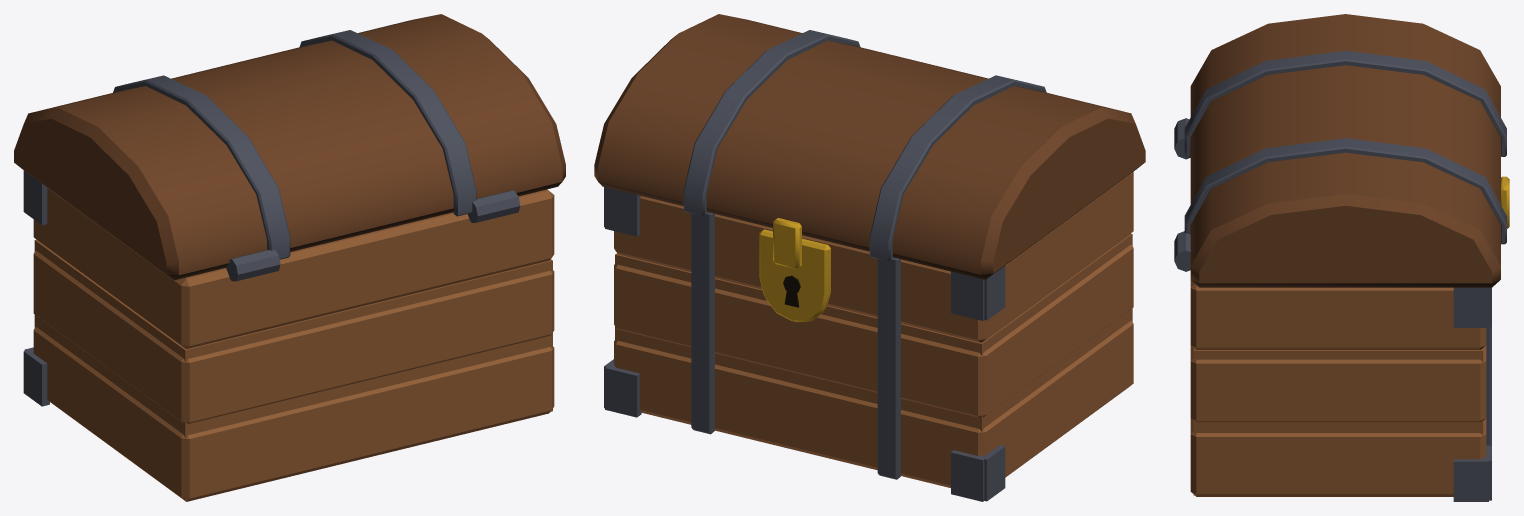
File: coffre.fbx
3 renders of one model, left to right at view 1: azimuth 30°, elevation 25°; view 2: azimuth 150°, elevation 25°; view 3: azimuth 270°, elevation 25°, orthographic. The views are drawn at different scales.
Visible parts, largest first — view 1: Corps, Couvercle, Ferrures; view 2: Couvercle, Corps, Ferrures; view 3: Couvercle, Corps, Ferrures.
Boxes of the visible parts, bbox=[...] form: Corps: bbox=[33, 187, 554, 501]; Couvercle: bbox=[14, 14, 565, 280]; Ferrures: bbox=[23, 170, 520, 406]; Couvercle: bbox=[594, 14, 1145, 279]; Corps: bbox=[614, 172, 1133, 487]; Ferrures: bbox=[604, 187, 1005, 501]; Couvercle: bbox=[1184, 14, 1509, 287]; Corps: bbox=[1190, 280, 1486, 496]; Ferrures: bbox=[1174, 118, 1491, 501].
Size of the model in its own units: 1.5 by 1.17 by 1.13.
